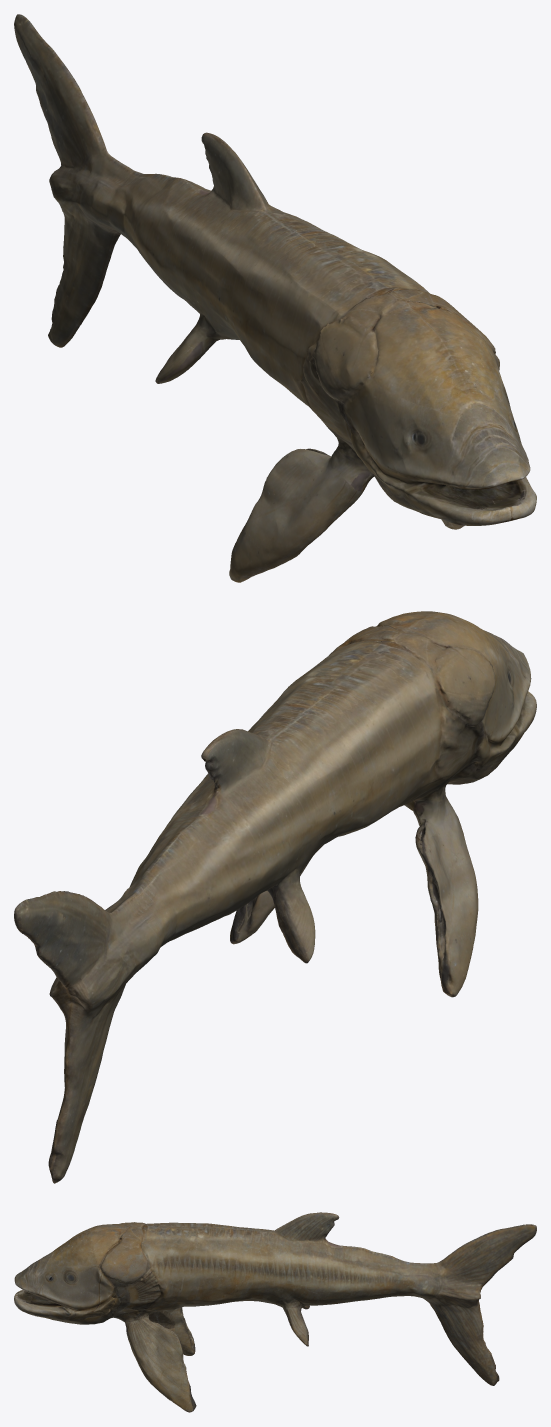
Rendered from leedsichthys.glb.
The picture shows the model from 3 angles, top to bottom: view 1: azimuth 30°, elevation 25°; view 2: azimuth 150°, elevation 25°; view 3: azimuth 270°, elevation 25°; orthographic projection. The views are drawn at different scales.
Parts seen in each view (by area): view 1: Object_4; view 2: Object_4; view 3: Object_4.
Part boxes in pixels (left/top/right/bottom): Object_4: left=14, top=14, right=536, bottom=582; Object_4: left=14, top=611, right=536, bottom=1183; Object_4: left=14, top=1212, right=536, bottom=1412.
Bounding box in the file's own units: 0.5319 × 0.7306 × 2.
1 material, 1 textured.
